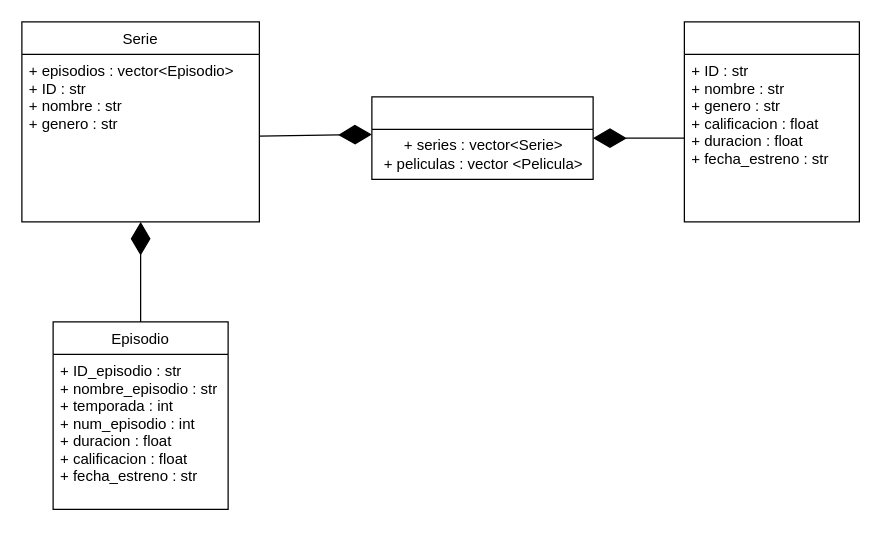
This 881x535 diagram has some shape labels left out. The shapes that lost their labels are listed below. From the top down, each one's box as (x1, y1, x2, y2) in pixels, then its label:
(371, 96, 593, 179): Plataforma
(683, 21, 859, 222): Pelicula
